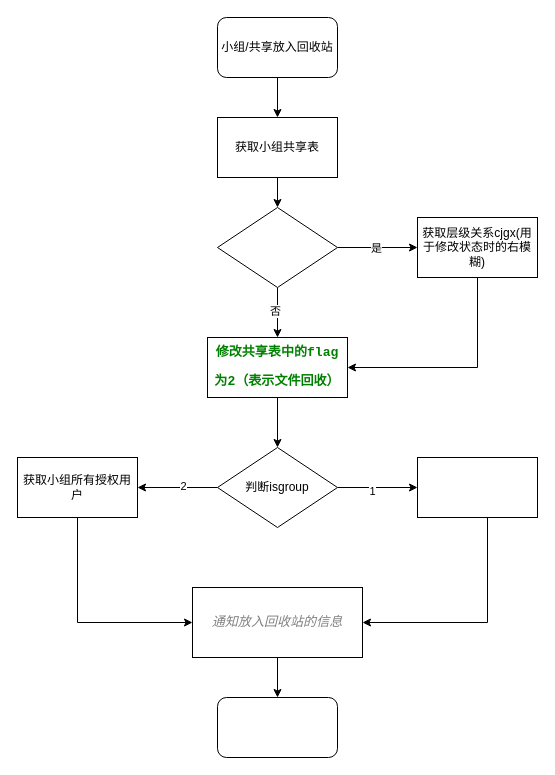
Some shapes in this 555 by 775 pixel diagram are drawn without their labels. Each missing label, with the centre of its shape:
是否为文件夹: the point at 277,247
结束: the point at 277,727
获取共享文件夹用户: the point at 477,487
